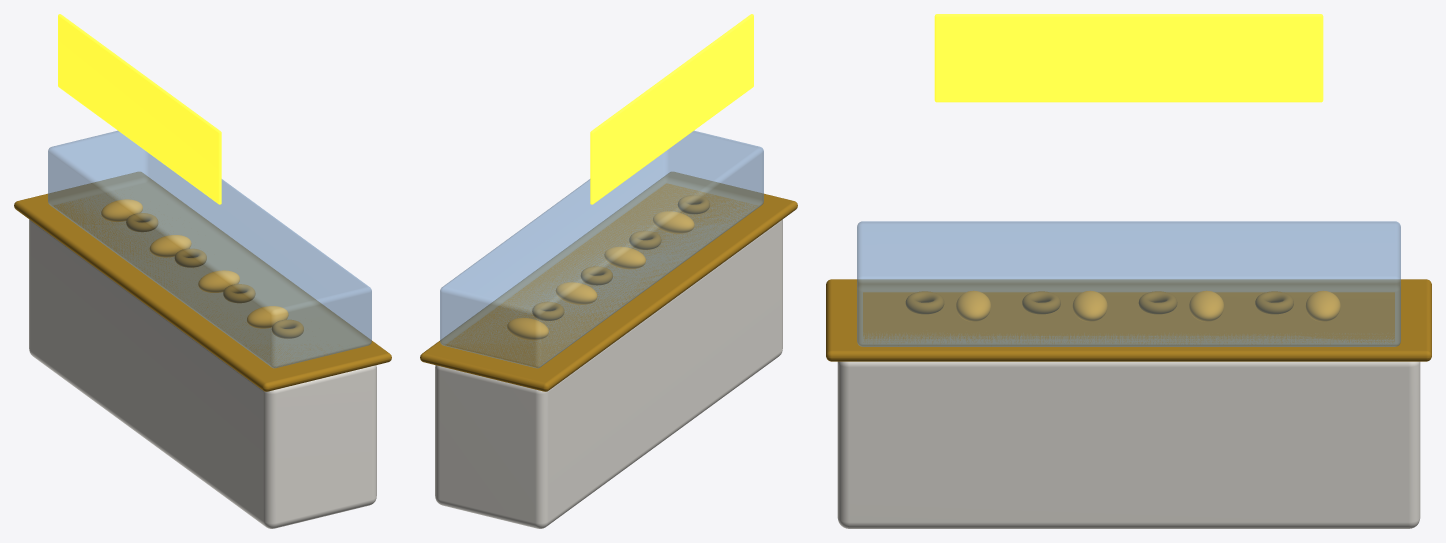
Rendered from chaotic_supermarket__bakery_deli.glb.
The picture shows the model from 3 angles, left to right: view 1: azimuth 30°, elevation 25°; view 2: azimuth 150°, elevation 25°; view 3: azimuth 270°, elevation 25°; orthographic projection. The views are drawn at different scales.
Visible parts, largest first — view 1: Set, Glow; view 2: Set, Glow; view 3: Set, Glow.
Boxes of the visible parts, <box> form: Set: <box>14,130,391,528</box>; Glow: <box>58,14,221,204</box>; Set: <box>420,130,797,528</box>; Glow: <box>590,14,753,204</box>; Set: <box>826,221,1431,528</box>; Glow: <box>934,14,1323,102</box>.
Bounding box in the file's own units: 0.922 × 2.55 × 3.12.
